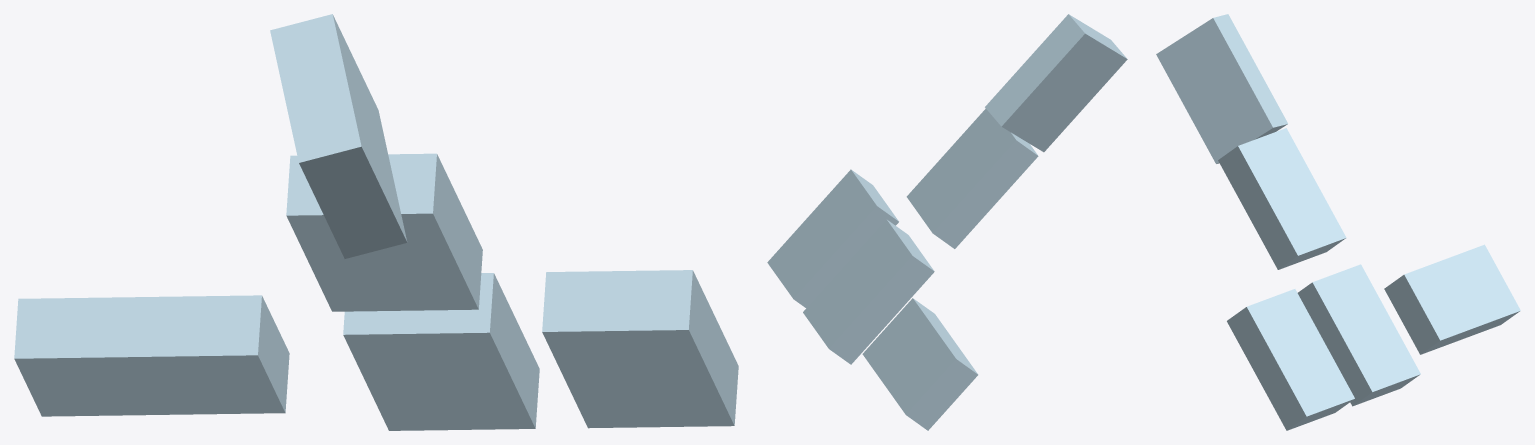
File: boiboites [141].gltf
3 views of the same model, side by side, from view 1: azimuth 30°, elevation 25°; view 2: azimuth 150°, elevation 25°; view 3: azimuth 270°, elevation 25° (orthographic). The views are drawn at different scales.
Visible parts, largest first — view 1: Part 1 (×5); view 2: Part 1 (×5); view 3: Part 1 (×5).
Part boxes in pixels (x1,y1,x2,y2): Part 1 (×5): (14, 14, 738, 430); Part 1 (×5): (767, 14, 1127, 430); Part 1 (×5): (1156, 14, 1520, 430).
Bounding box in the file's own units: 0.3113 × 0.3172 × 0.3376.
